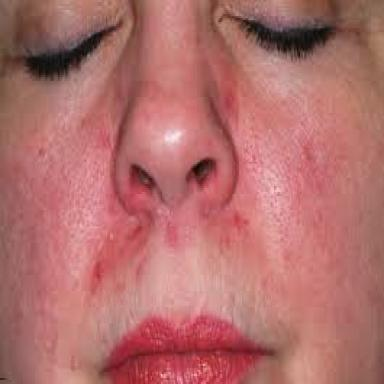burn: (0, 0, 375, 374)
